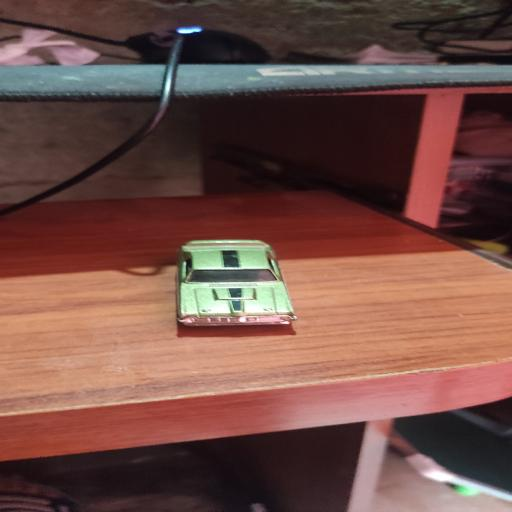Carrito: (177, 240, 296, 326)
